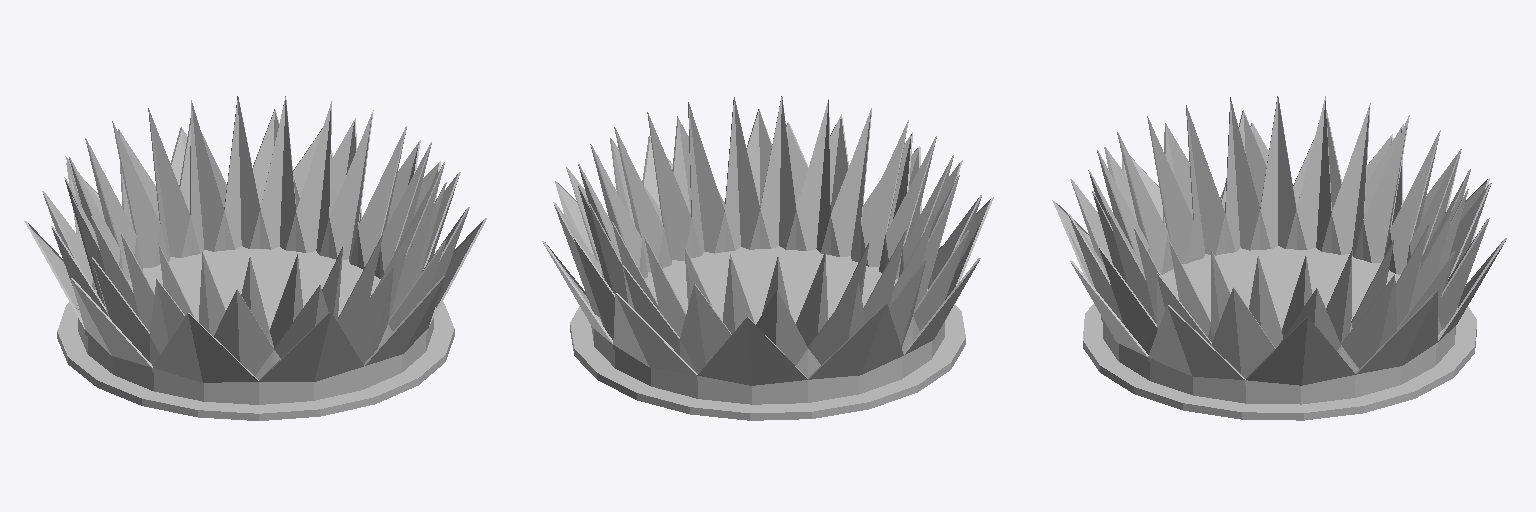
File: portal_000015.obj
3 renders of one model, left to right at view 1: azimuth 30°, elevation 25°; view 2: azimuth 150°, elevation 25°; view 3: azimuth 270°, elevation 25°, orthographic.
Visible parts, largest first — view 1: Cylinder.001, pCylinder1, Cylinder; view 2: Cylinder.001, pCylinder1, Cylinder; view 3: Cylinder.001, pCylinder1, Cylinder.
Boxes of the visible parts, x1=… form: Cylinder.001: x1=64, y1=96, x2=446, y2=347; pCylinder1: x1=24, y1=127, x2=486, y2=420; Cylinder: x1=42, y1=109, x2=469, y2=379; Cylinder.001: x1=578, y1=96, x2=959, y2=346; pCylinder1: x1=542, y1=122, x2=993, y2=420; Cylinder: x1=553, y1=109, x2=981, y2=377; Cylinder.001: x1=1088, y1=96, x2=1470, y2=347; pCylinder1: x1=1052, y1=123, x2=1506, y2=420; Cylinder: x1=1068, y1=110, x2=1491, y2=378.
Bounding box in the file's own units: 7.39 × 2.9 × 7.31.